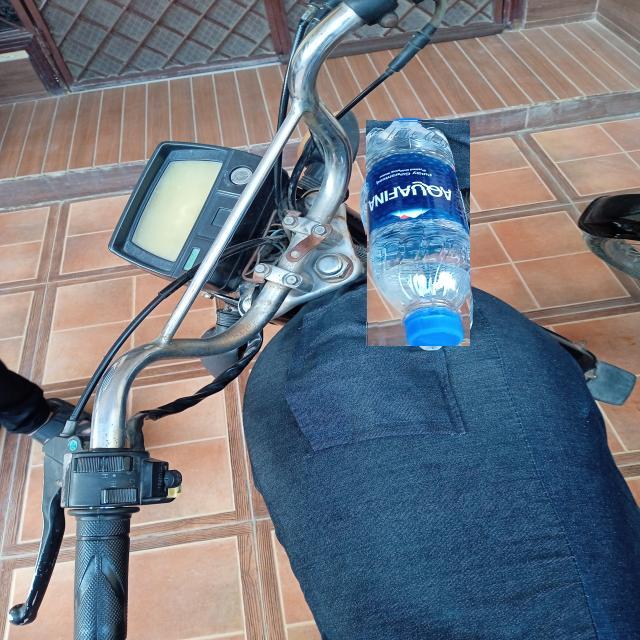Plastic: (365, 119, 470, 346)
